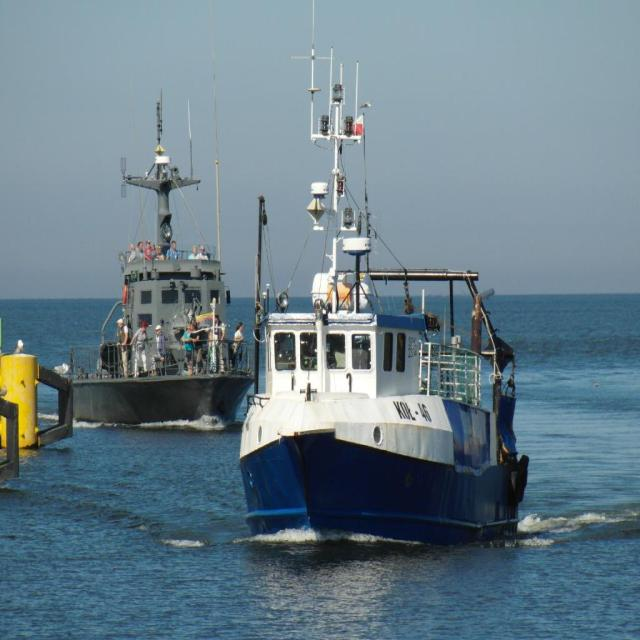Boat: (234, 0, 532, 547), (59, 88, 258, 434)
